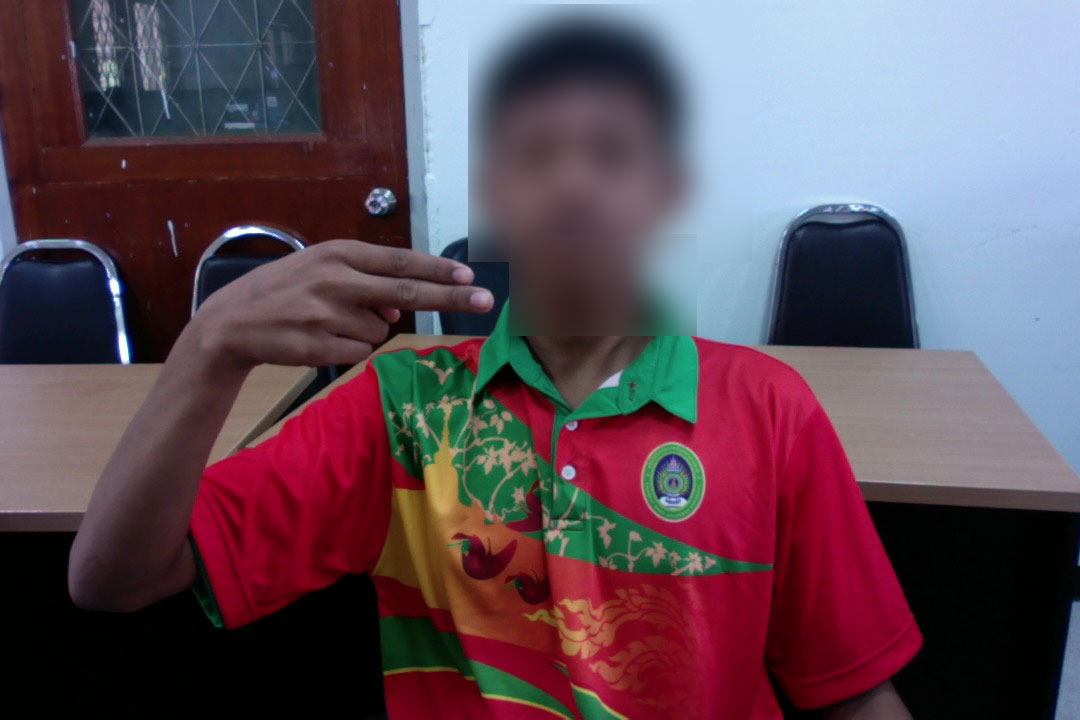hor: (203, 232, 497, 377)
